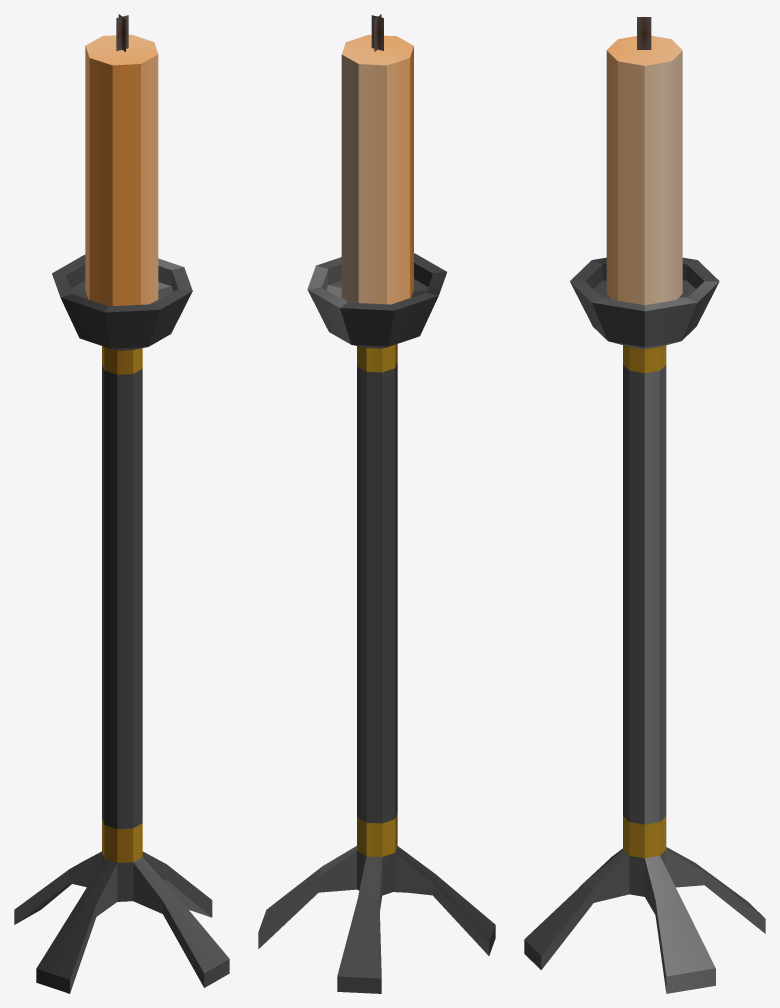
File: candle_336x14.obj
3 views of the same model, side by side, from view 1: azimuth 30°, elevation 25°; view 2: azimuth 150°, elevation 25°; view 3: azimuth 270°, elevation 25° (orthographic).
Visible parts, largest first — view 1: candle_336x14; view 2: candle_336x14; view 3: candle_336x14.
Part boxes in pixels (<box>): candle_336x14: <box>14,14,229,993</box>; candle_336x14: <box>258,14,495,993</box>; candle_336x14: <box>524,17,765,993</box>.
Size of the model in its own units: 0.4538 by 2.02 by 0.4768.
